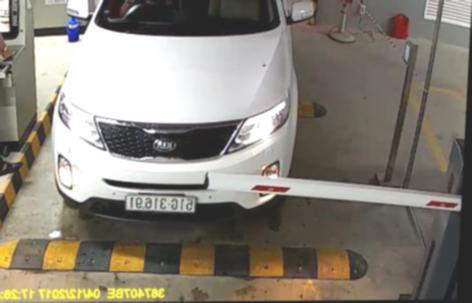License_Plate: (125, 188, 199, 216)
